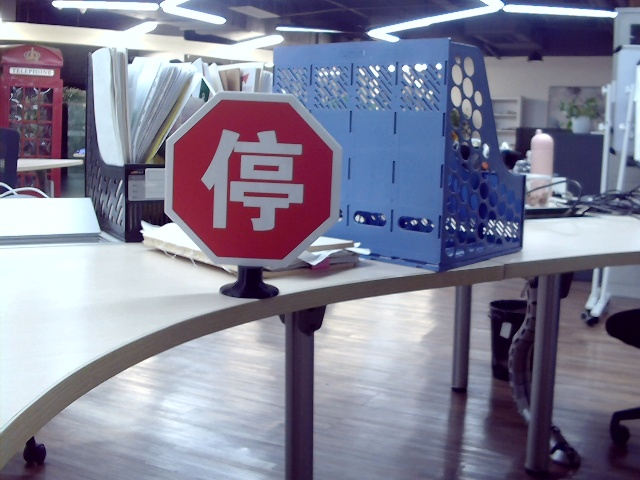stop: (197, 123, 306, 233)
